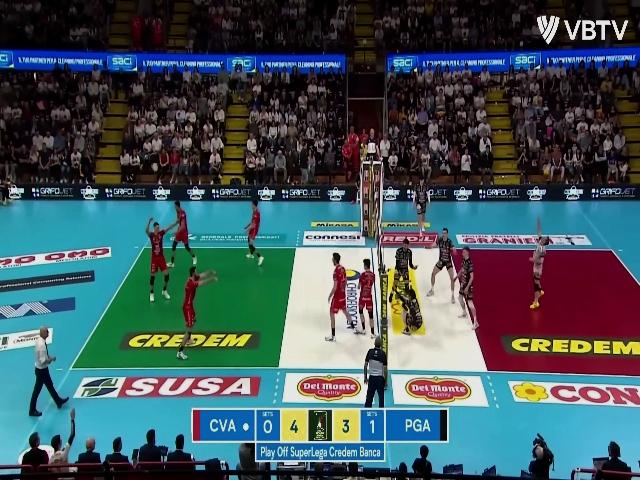volleyball court: (68, 246, 639, 376)
